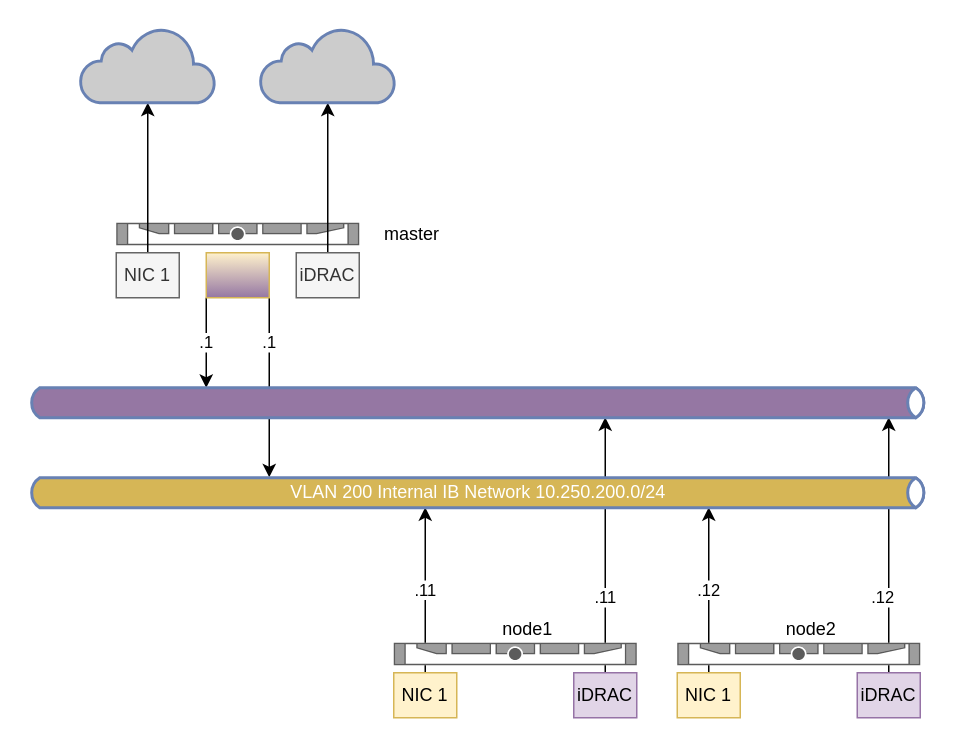
Some shapes in this 954 by 744 pixel diagram are drawn without their labels. Each missing label, with the centre of its shape:
NIC 2: the point at 237,274
Upstream IB Network: the point at 147,65
Upstream OOB Network: the point at 327,65
VLAN 100 Internal OOB Network 172.16.100.0/24: the point at 477,402
